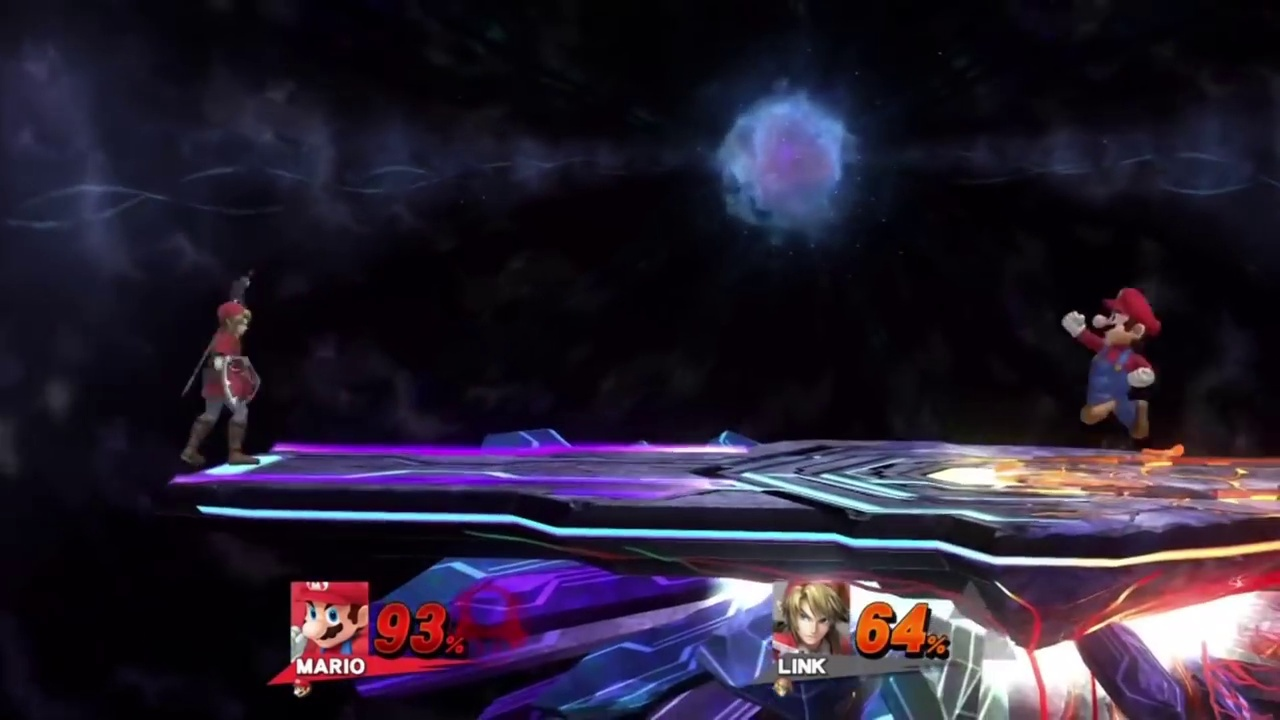Mario: (1059, 287, 1162, 443)
